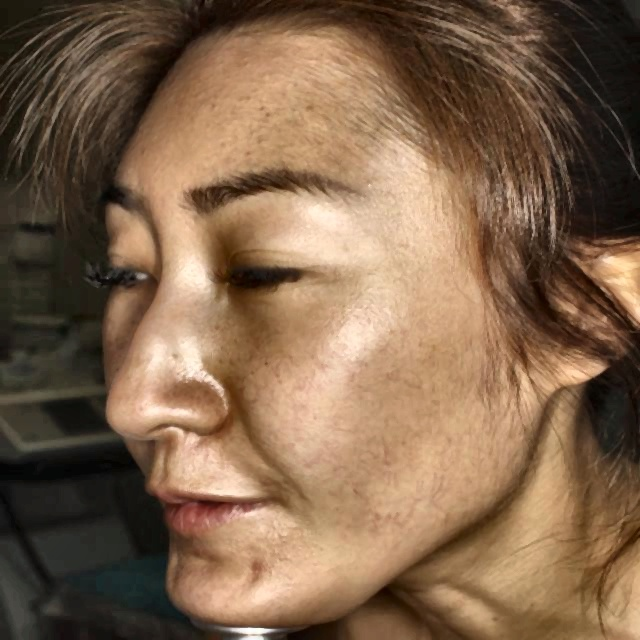comedone: (235, 555, 274, 581)
